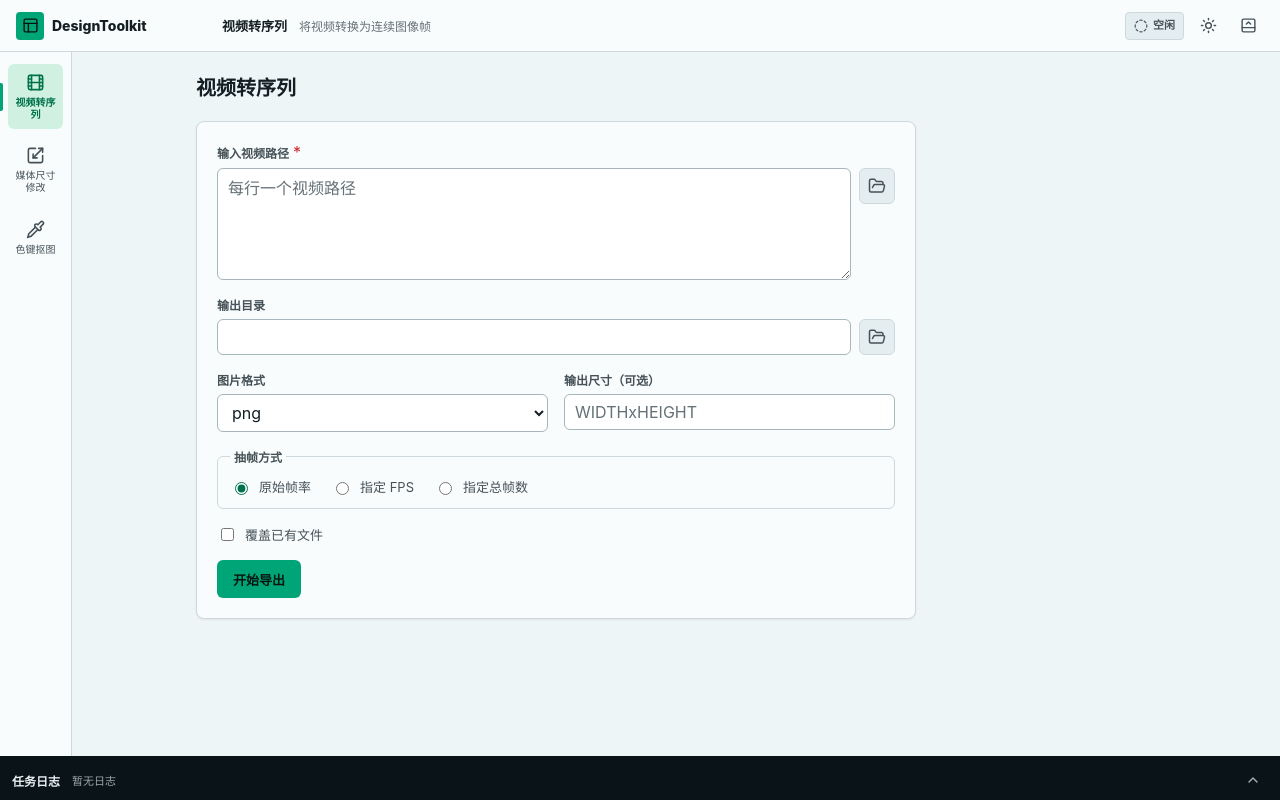
Test: AppShell › uses the task API status when the log stream disconnects after completion
Type "clip.webm" into the text box labelled "输入视频路径" at (534, 224), box top-left (217, 168), bottom-right (851, 280)
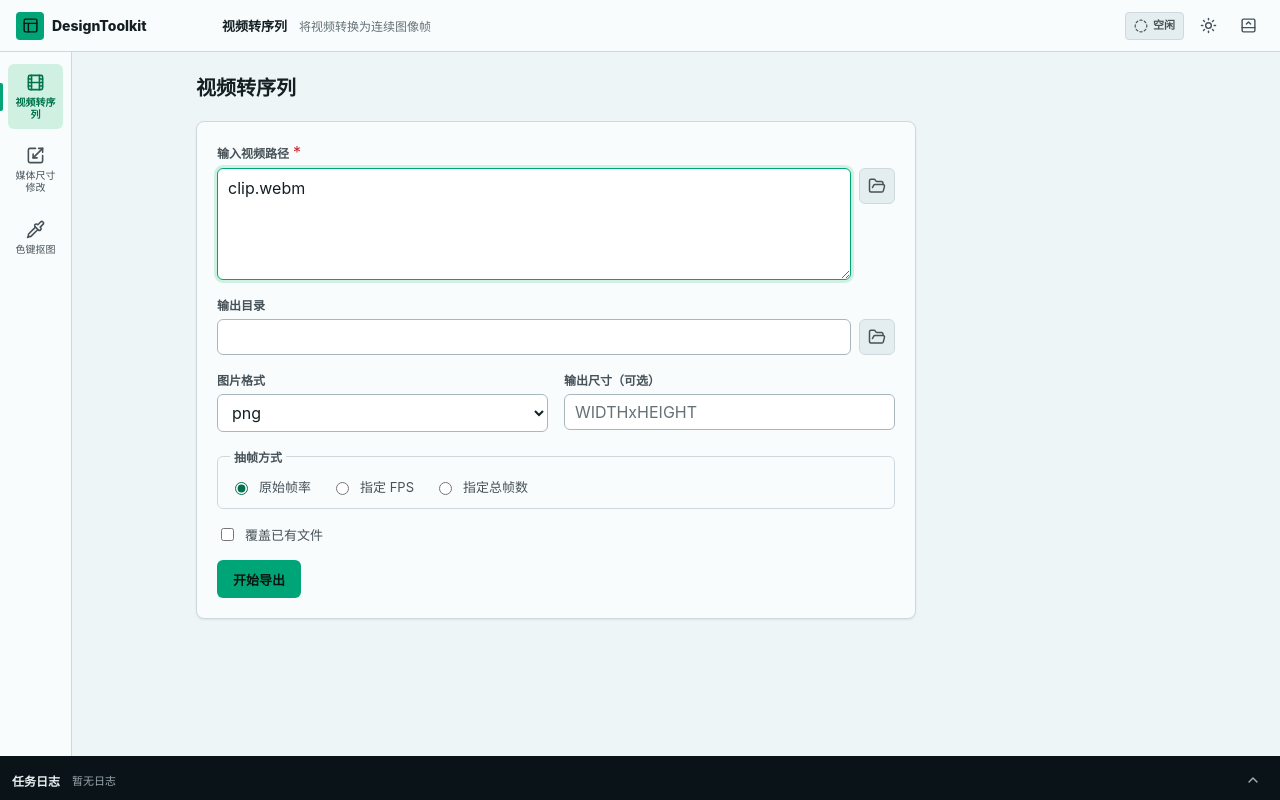
Click the button "开始导出" at (259, 579), box top-left (217, 560), bottom-right (301, 598)
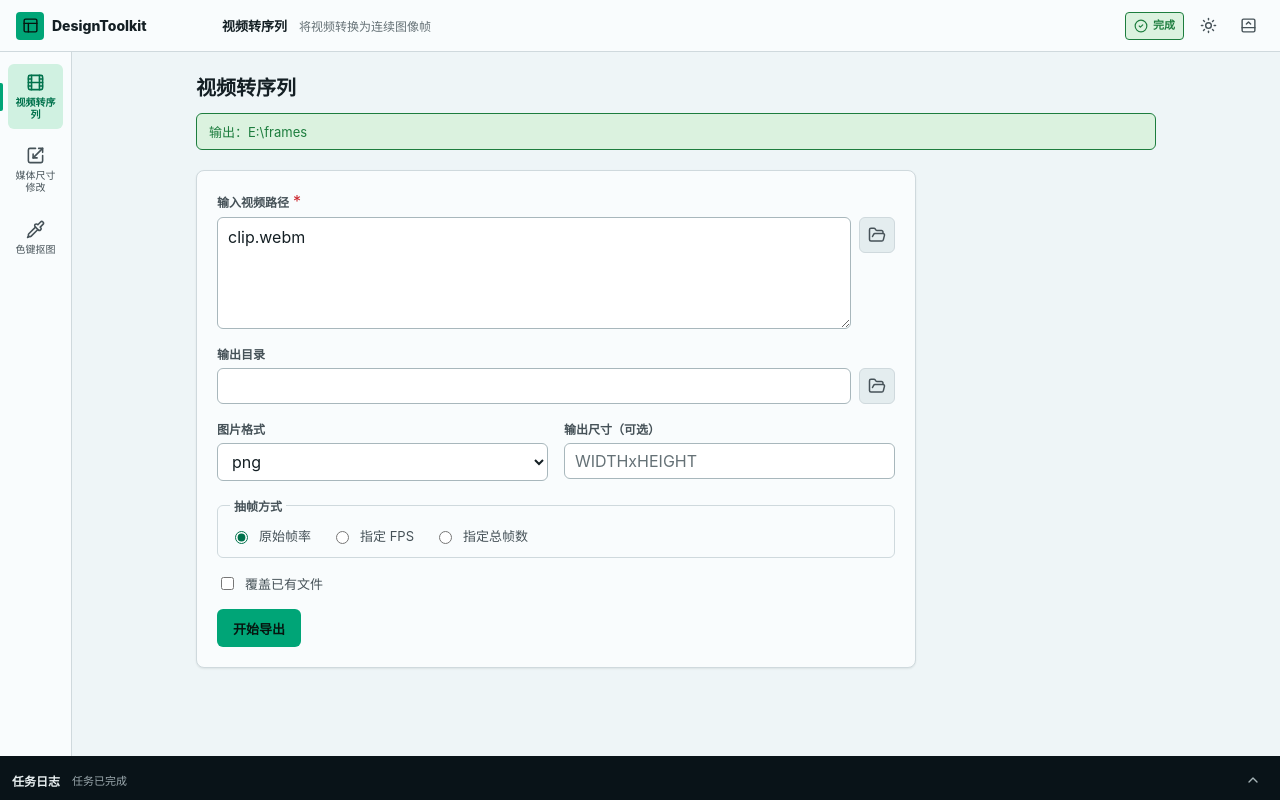
Expected: the text "任务已完成" is shown, top-left (72, 772), bottom-right (127, 788)
